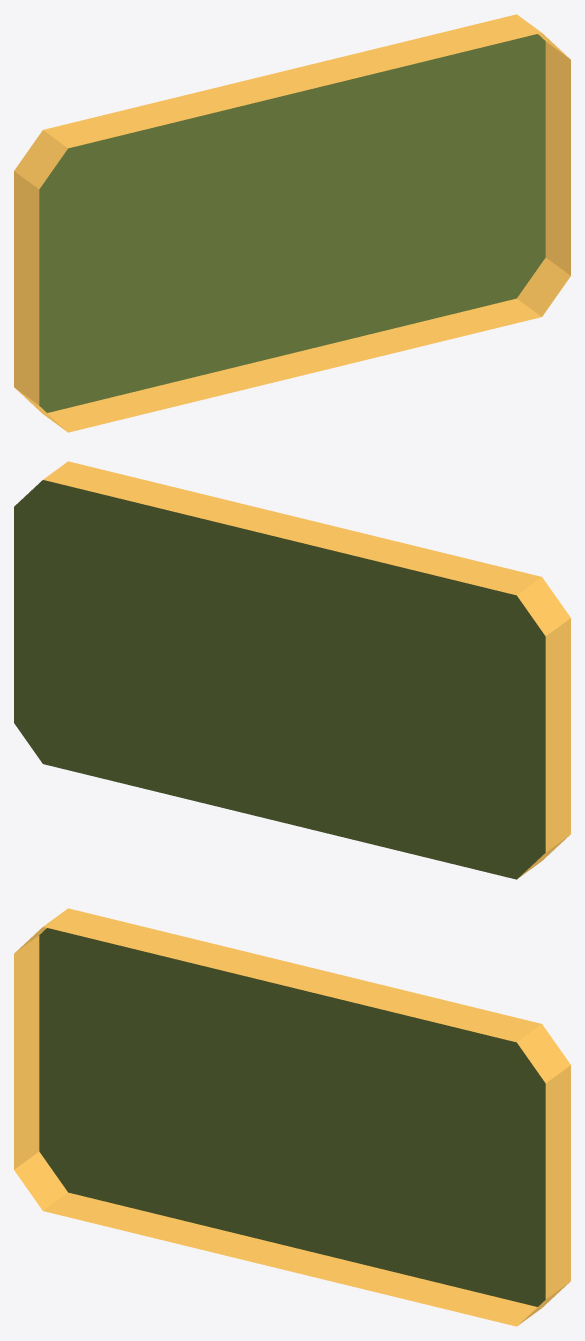
File: placeholder.glb
The picture shows the model from 3 angles, top to bottom: view 1: azimuth 30°, elevation 25°; view 2: azimuth 150°, elevation 25°; view 3: azimuth 330°, elevation 25°; orthographic projection.
Visible parts, largest first — view 1: Placeholder; view 2: Placeholder; view 3: Placeholder.
Part boxes in pixels (box(x1,y1,x2,y2)): Placeholder: box(14, 14, 570, 432); Placeholder: box(14, 461, 570, 879); Placeholder: box(14, 908, 570, 1326).
Size of what is drawn, in the model's own units: 1.16 by 0.5917 by 0.0954.
2 materials, 2 textured.
